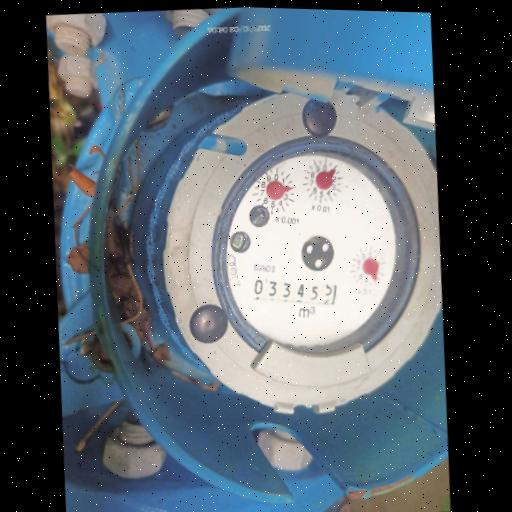0: (251, 278, 269, 300)
3: (278, 280, 295, 302), (266, 280, 281, 302)
4: (293, 282, 310, 303)
5: (307, 282, 324, 304), (321, 285, 336, 306)
border_water_meter_number: (248, 270, 341, 314)
